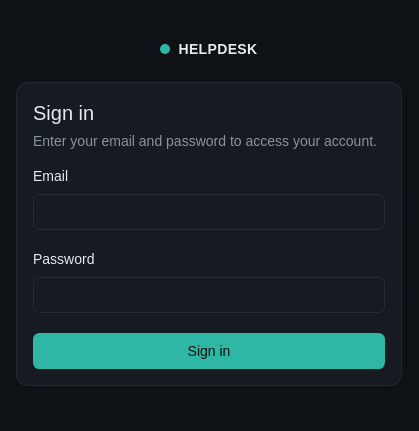
Scenario: Login › shows validation errors for empty submission
Click the button "Sign in".
click(209, 351)  # box [33,333,385,369]
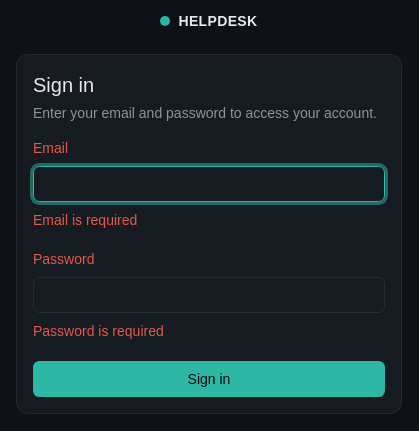
Now the text "Email is required" is shown, box [33,212,137,228]
Now the text "Password is required" is shown, box [33,323,164,339]
